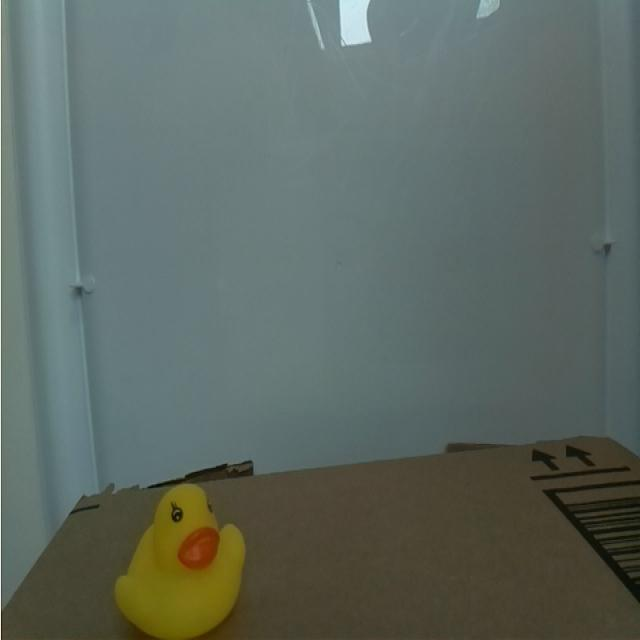duck_regular: (96, 460, 263, 640)
